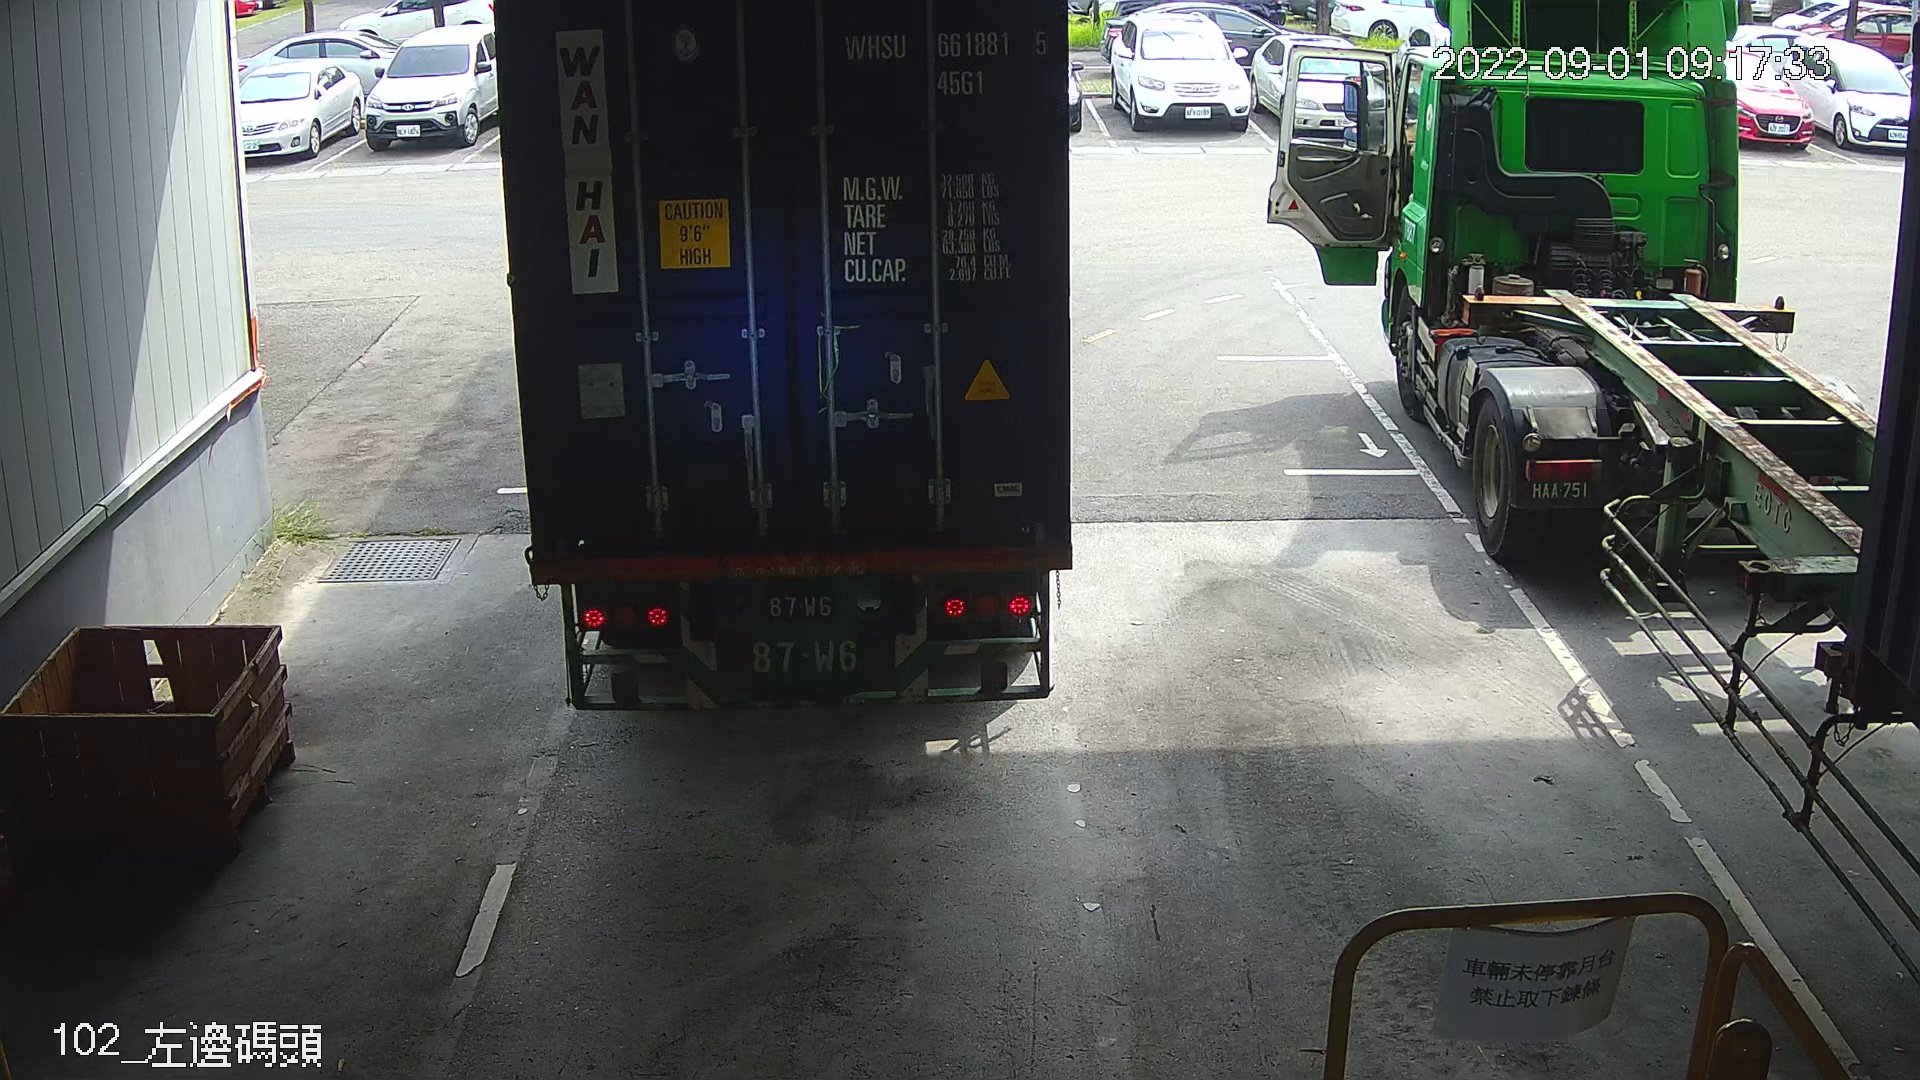container: (831, 22, 1056, 102)
